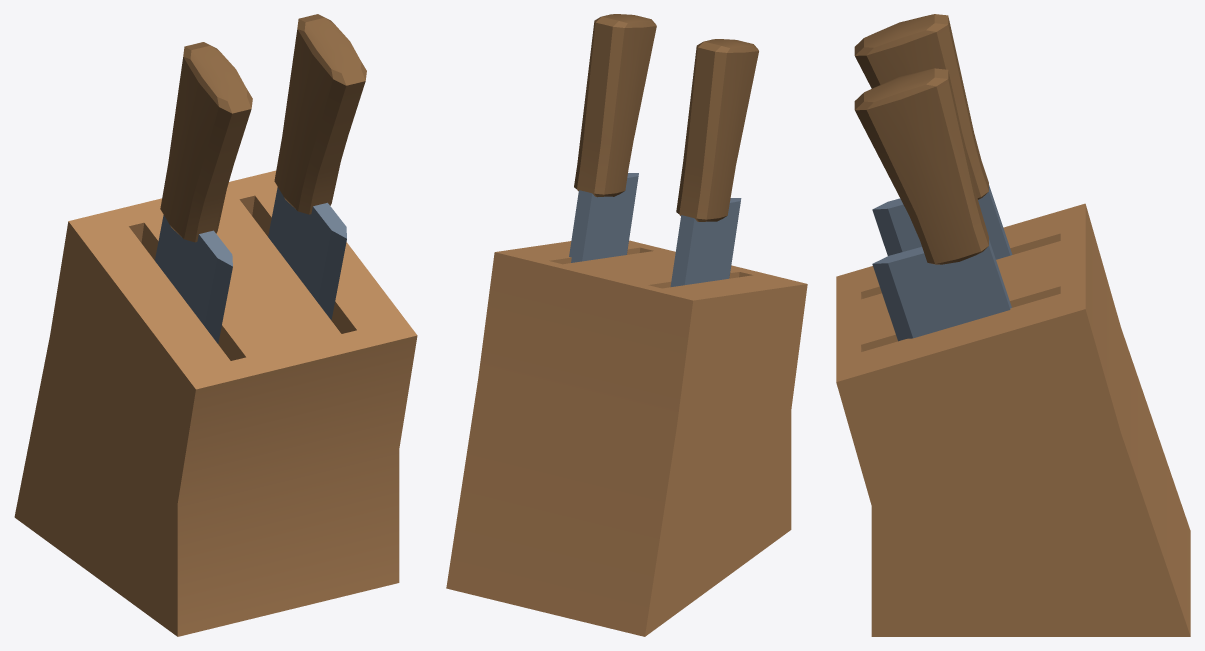
Rendered from knives.glb.
3 renders of one model, left to right at view 1: azimuth 30°, elevation 25°; view 2: azimuth 150°, elevation 25°; view 3: azimuth 270°, elevation 25°, orthographic. The views are drawn at different scales.
Visible parts, largest first — view 1: Environment_KitchenKnives; view 2: Environment_KitchenKnives; view 3: Environment_KitchenKnives.
Part boxes in pixels (box(x1,y1,x2,y2)): Environment_KitchenKnives: box(14, 14, 417, 636); Environment_KitchenKnives: box(446, 14, 807, 636); Environment_KitchenKnives: box(836, 14, 1190, 636).
Size of the model in its own units: 0.5938 by 1.41 by 0.8427.
